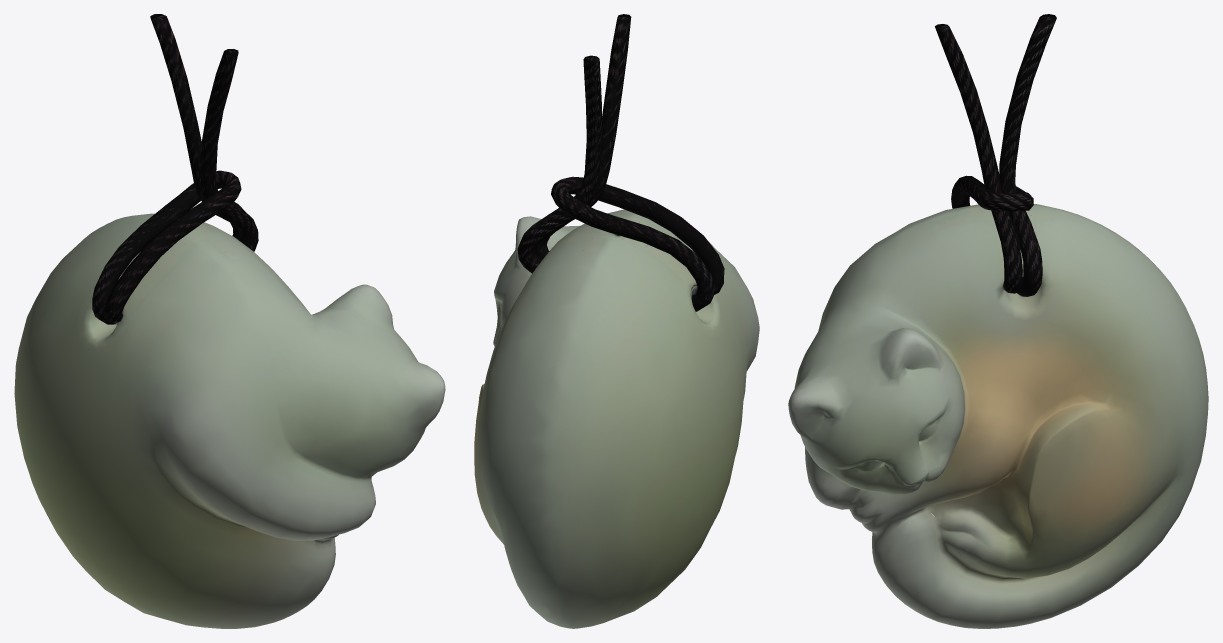
The model's file is sunny-balcony-pendant.glb.
3 renders of one model, left to right at view 1: azimuth 30°, elevation 25°; view 2: azimuth 150°, elevation 25°; view 3: azimuth 270°, elevation 25°, orthographic. The views are drawn at different scales.
Visible parts, largest first — view 1: tripo_node_5b374592-4a63-4752-9854-066cc31a3cba; view 2: tripo_node_5b374592-4a63-4752-9854-066cc31a3cba; view 3: tripo_node_5b374592-4a63-4752-9854-066cc31a3cba.
Part boxes in pixels (x1,y1,x2,y2): tripo_node_5b374592-4a63-4752-9854-066cc31a3cba: (14, 14, 445, 628); tripo_node_5b374592-4a63-4752-9854-066cc31a3cba: (474, 14, 759, 628); tripo_node_5b374592-4a63-4752-9854-066cc31a3cba: (788, 14, 1208, 628).
Bounding box in the file's own units: 0.5113 × 0.9995 × 0.6441.
1 material, 1 textured.
